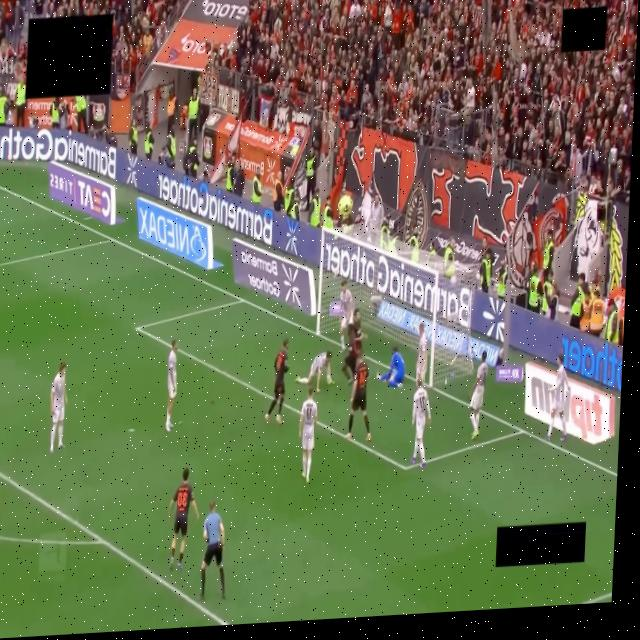player: (169, 468, 198, 570), (347, 353, 370, 441), (546, 353, 568, 441), (265, 340, 288, 424), (410, 376, 430, 468), (299, 388, 317, 482), (295, 352, 333, 392), (470, 351, 487, 440), (50, 362, 66, 453), (342, 317, 361, 382), (376, 347, 404, 388), (165, 340, 176, 432), (339, 281, 352, 352), (415, 323, 427, 380)
referee: (200, 502, 224, 599)
